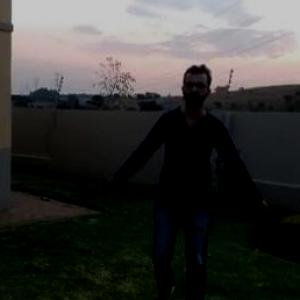land: (109, 65, 271, 299)
